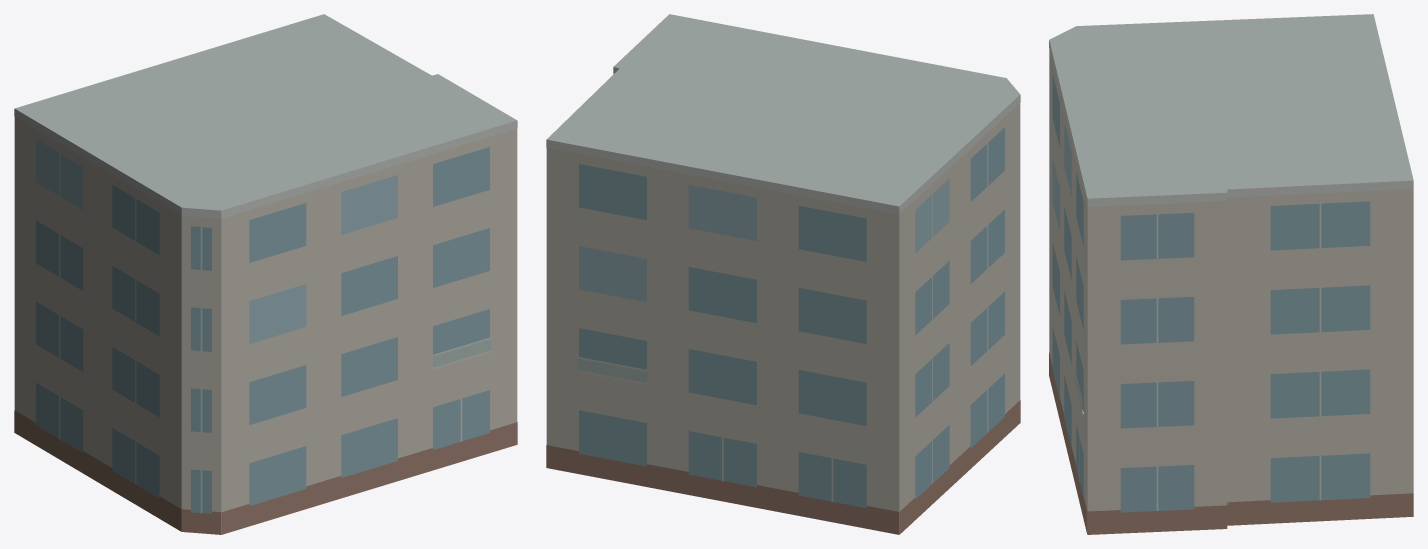
File: survey-upis-32560128.glb
3 renders of one model, left to right at view 1: azimuth 30°, elevation 25°; view 2: azimuth 150°, elevation 25°; view 3: azimuth 270°, elevation 25°, orthographic. The views are drawn at different scales.
Visible parts, largest first — view 1: survey-upis-32560128.tmp; view 2: survey-upis-32560128.tmp; view 3: survey-upis-32560128.tmp.
Part boxes in pixels (x1,y1,x2,y2): survey-upis-32560128.tmp: [14, 14, 517, 534]; survey-upis-32560128.tmp: [546, 14, 1020, 534]; survey-upis-32560128.tmp: [1049, 14, 1413, 534].
Bounding box in the file's own units: 11.67 × 9.9 × 9.74.
